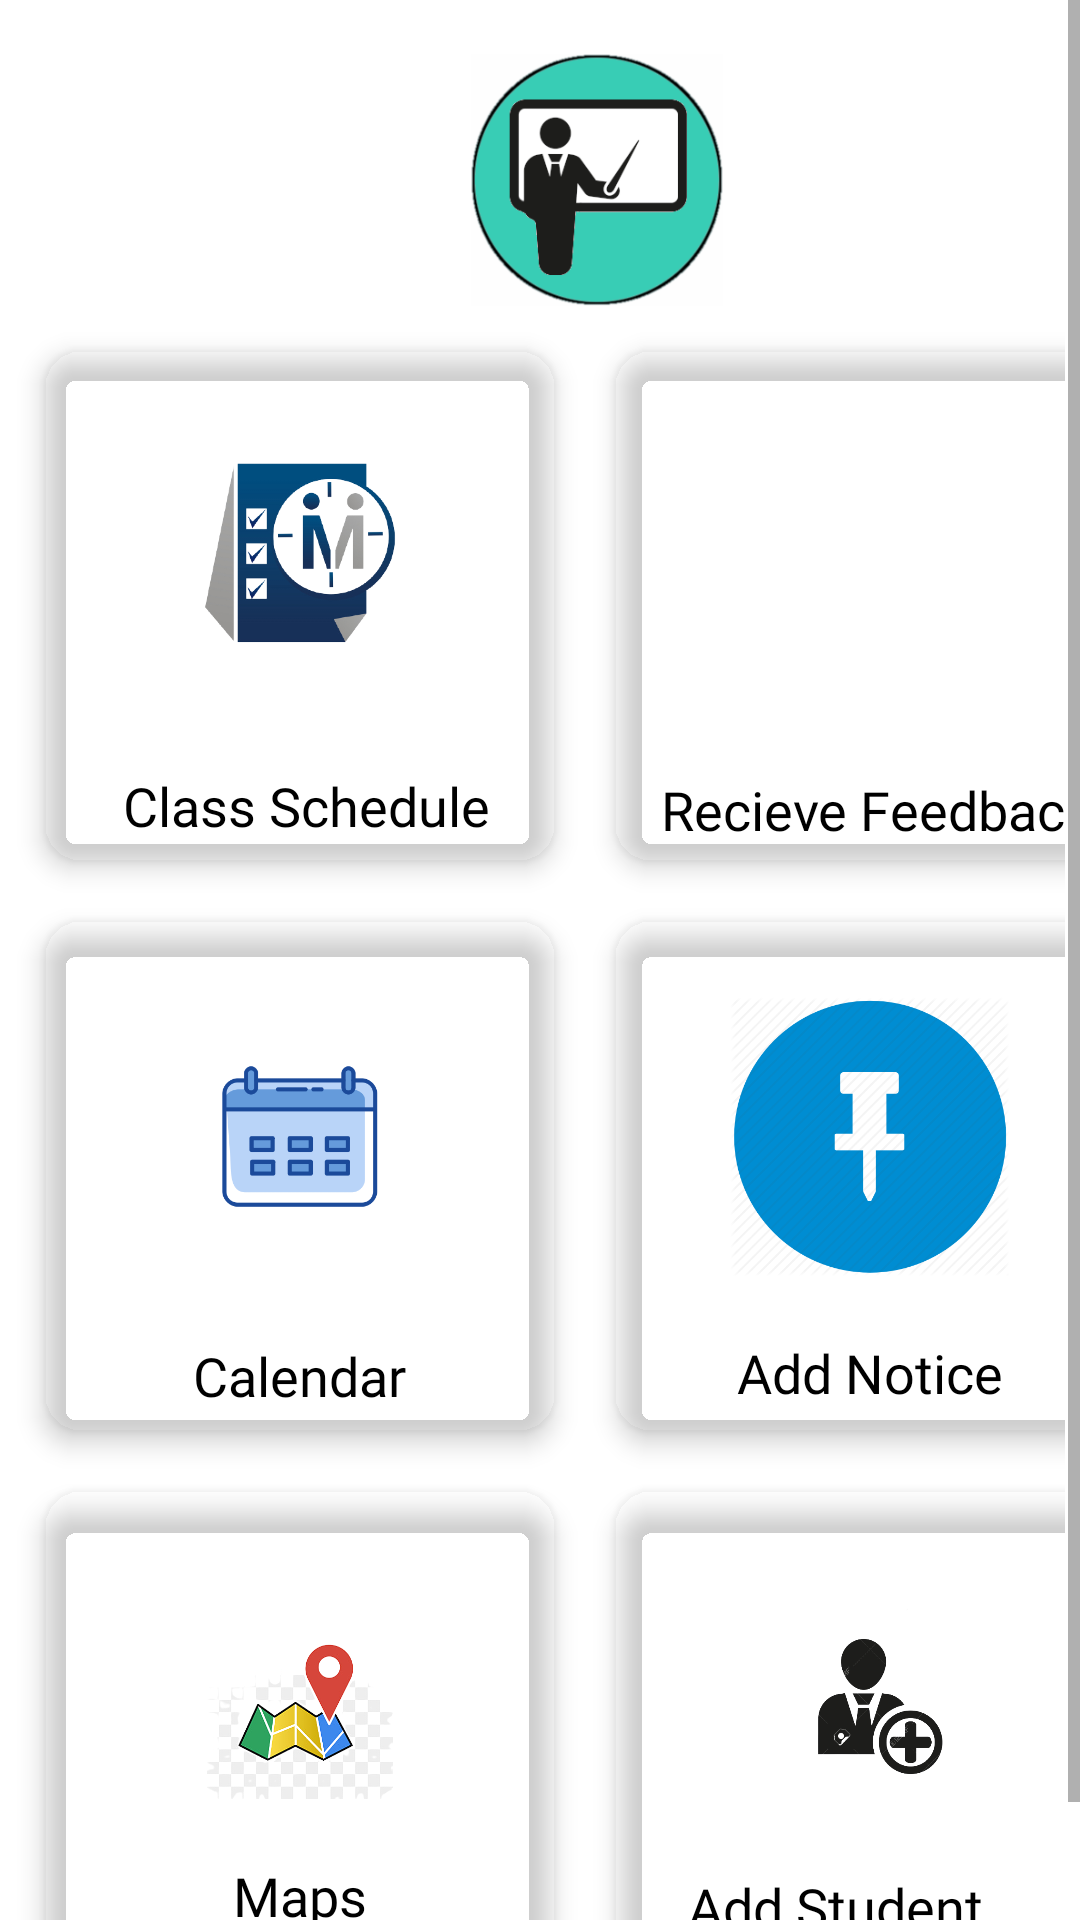

Screen size 1080 x 1920. Icon name, then its center in pixels as [x,y]:
calenadar: [300,1136]
teacher: [597,179]
